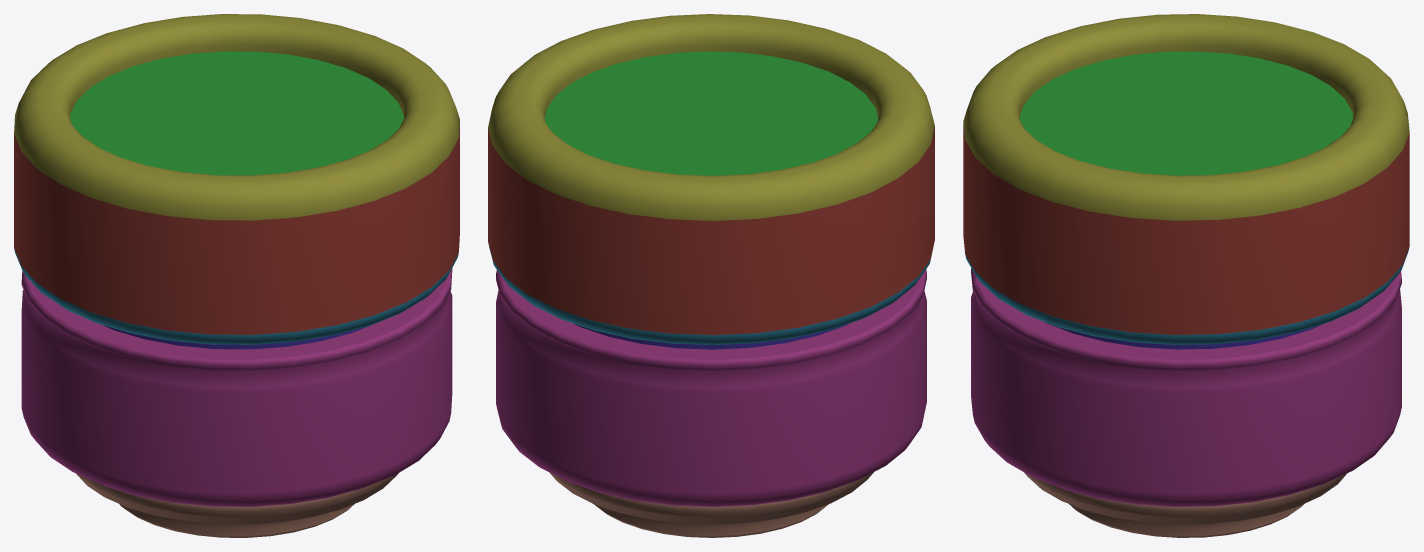
The model's file is PottedPlant_Style_02.fbx.
The picture shows the model from 3 angles, left to right: view 1: azimuth 30°, elevation 25°; view 2: azimuth 150°, elevation 25°; view 3: azimuth 270°, elevation 25°; orthographic projection.
Parts seen in each view (by area): view 1: SetA_PottedPlant_Style_02; view 2: SetA_PottedPlant_Style_02; view 3: SetA_PottedPlant_Style_02.
Boxes of the visible parts, bbox=[...] form: SetA_PottedPlant_Style_02: bbox=[14, 14, 459, 537]; SetA_PottedPlant_Style_02: bbox=[488, 14, 934, 537]; SetA_PottedPlant_Style_02: bbox=[963, 14, 1409, 537].
Bounding box in the file's own units: 0.1947 × 0.1857 × 0.1947.
